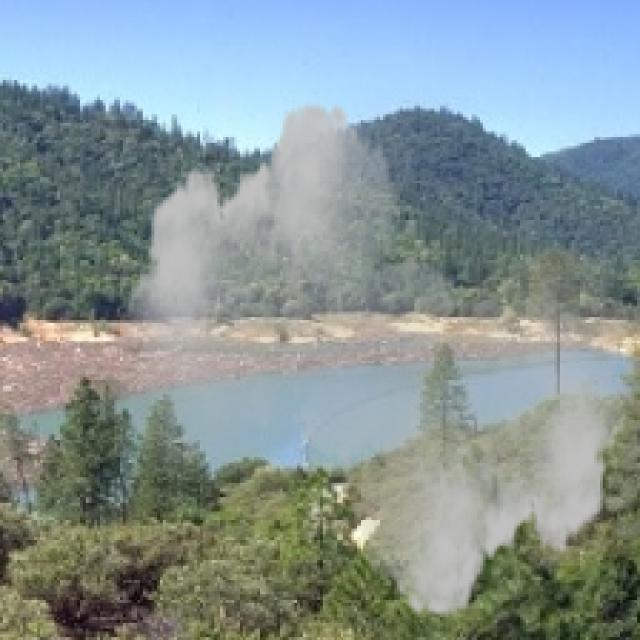smoke: (120, 86, 634, 634)
